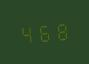eight: (53, 19, 69, 41)
four: (18, 22, 34, 44)
six: (36, 20, 52, 43)
